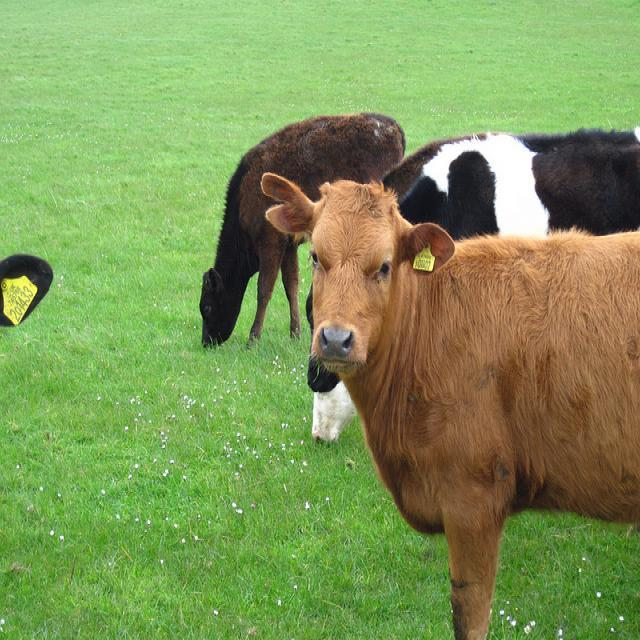cow: (262, 173, 639, 631), (304, 128, 638, 392), (309, 132, 565, 445), (198, 113, 402, 347), (0, 254, 52, 326)
